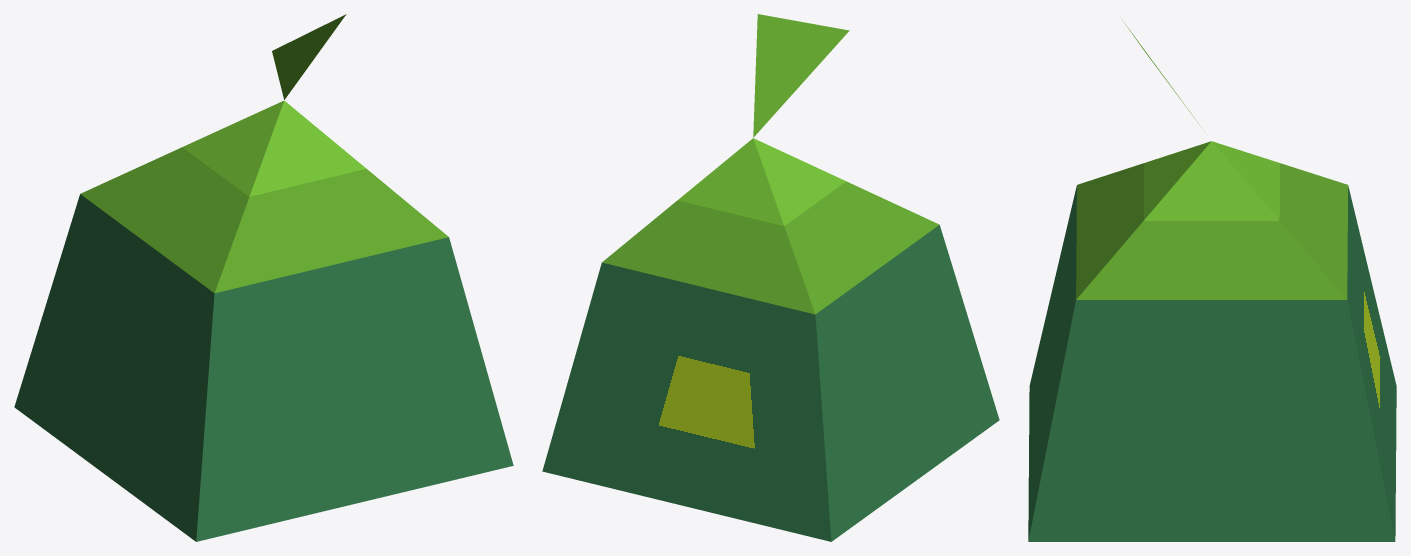
Rendered from alien_passenger.fbx.
3 renders of one model, left to right at view 1: azimuth 30°, elevation 25°; view 2: azimuth 150°, elevation 25°; view 3: azimuth 270°, elevation 25°, orthographic. The views are drawn at different scales.
Visible parts, largest first — view 1: AlienPassenger; view 2: AlienPassenger; view 3: AlienPassenger.
Boxes of the visible parts, x1,y1,x2,y2 form: AlienPassenger: [14, 14, 513, 541]; AlienPassenger: [542, 14, 999, 541]; AlienPassenger: [1028, 20, 1396, 541].
Bounding box in the file's own units: 9.41 × 12.33 × 9.41.
Materials: 1 (1 with a texture image).
